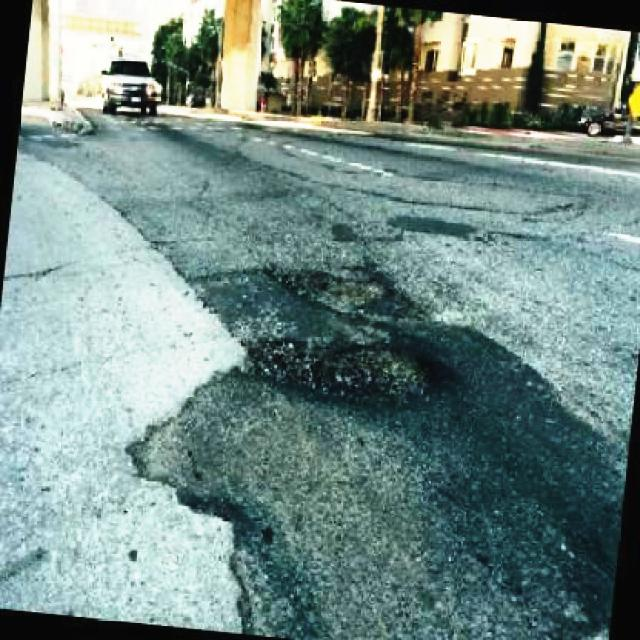pothole: (242, 331, 450, 409), (268, 262, 422, 324)
